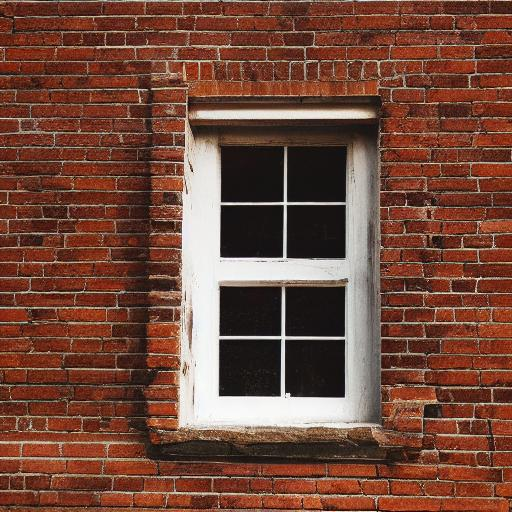Window: (148, 64, 408, 458)
